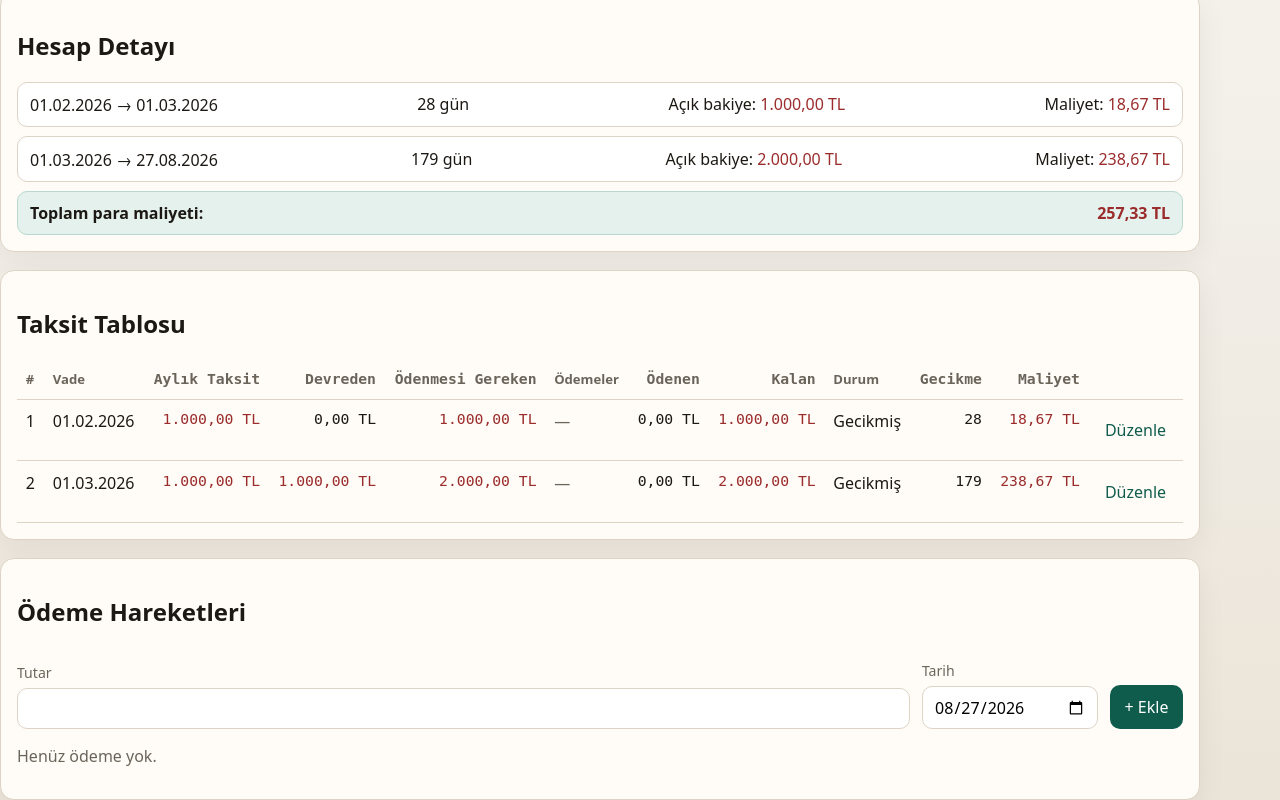
it: SalePage payment add flow › prevents double submit while busy
(page scrolled)
Type "100" into the field labelled "Tutar".
click(463, 709); type("100")  # box x1=17 y1=688 x2=910 y2=729
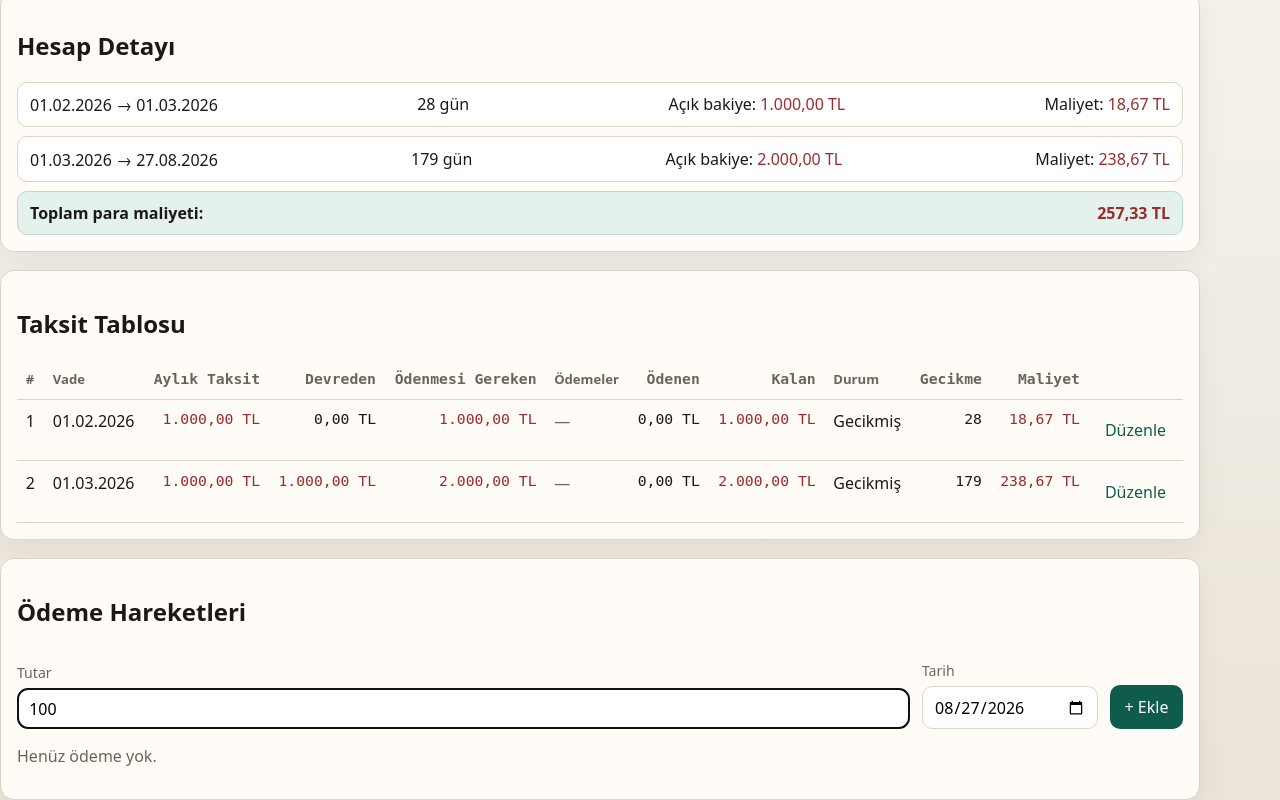
Click the button "+ Ekle".
click(1146, 707)  # box x1=1110 y1=685 x2=1183 y2=729
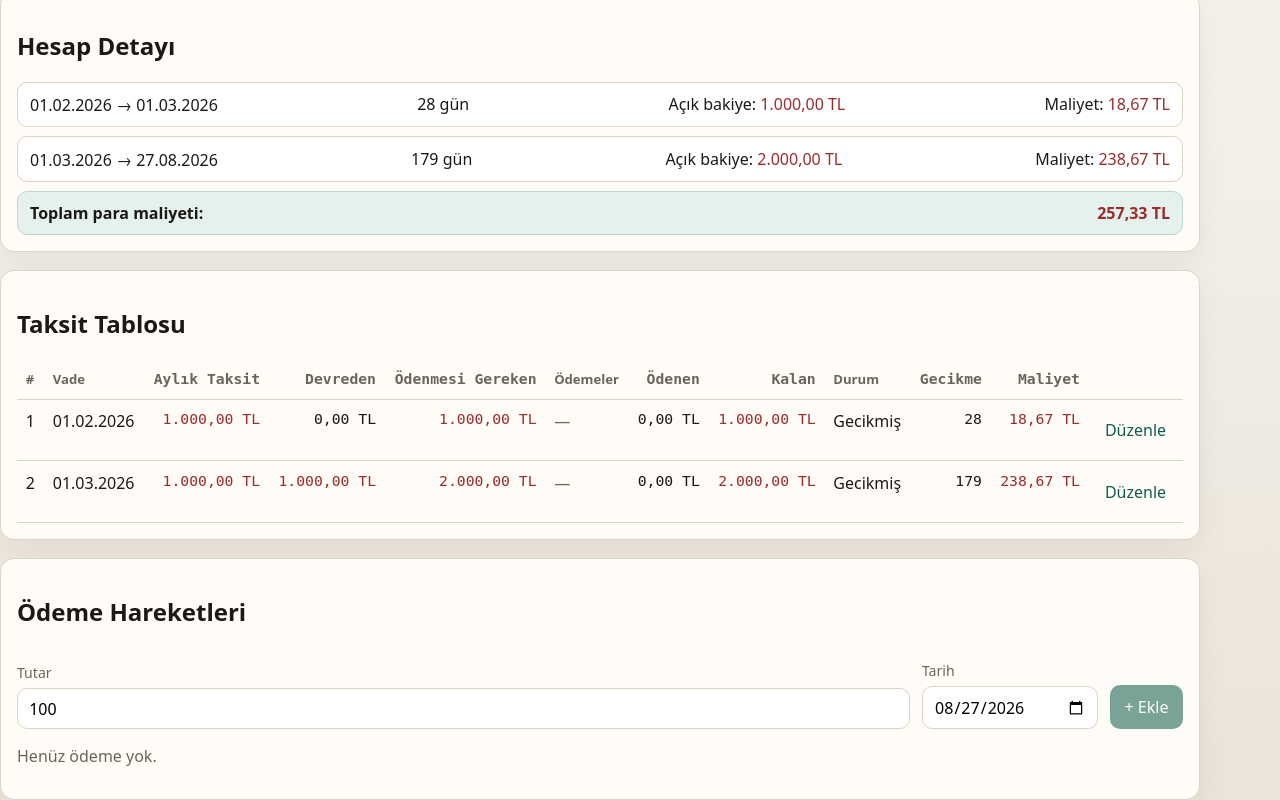
Result: the button "+ Ekle" is disabled
Click the button "+ Ekle".
click(1146, 707)  # box x1=1110 y1=685 x2=1183 y2=729
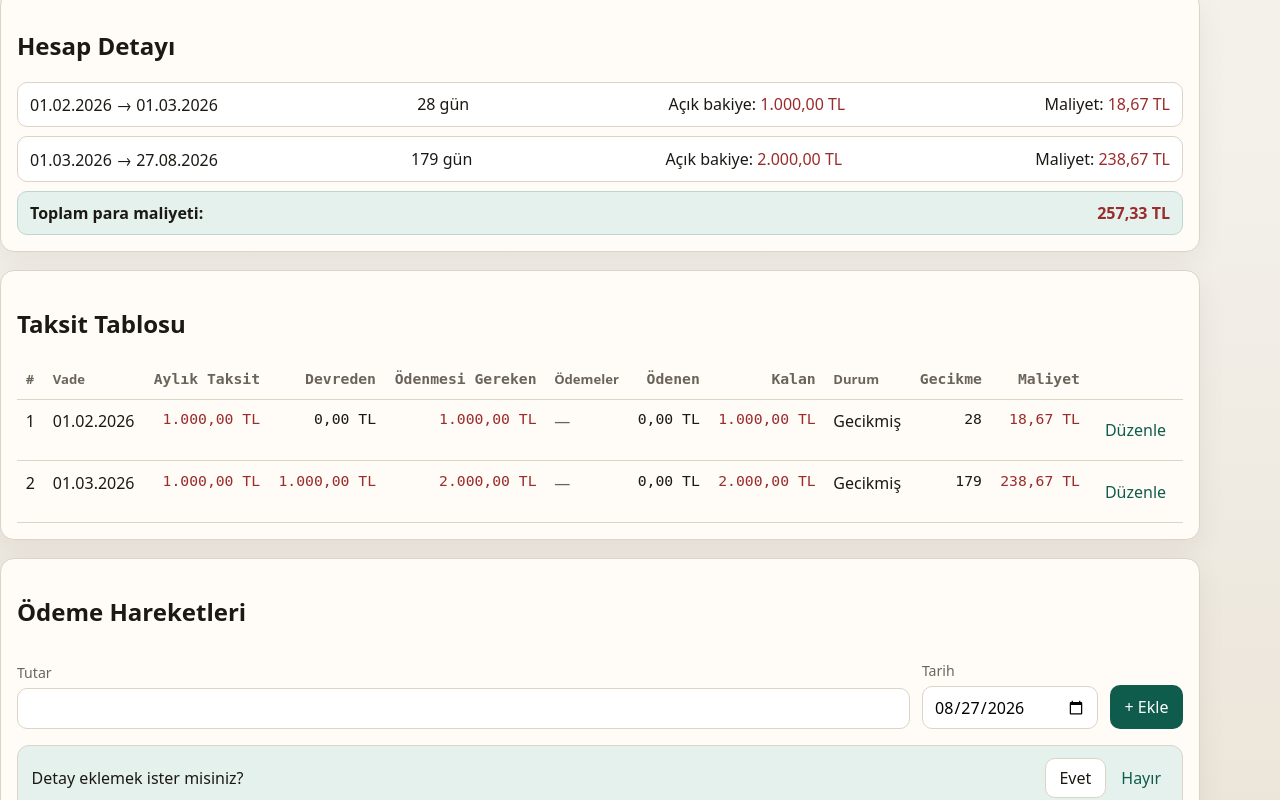
Result: the button "+ Ekle" is enabled at x1=1110 y1=685 x2=1183 y2=729
